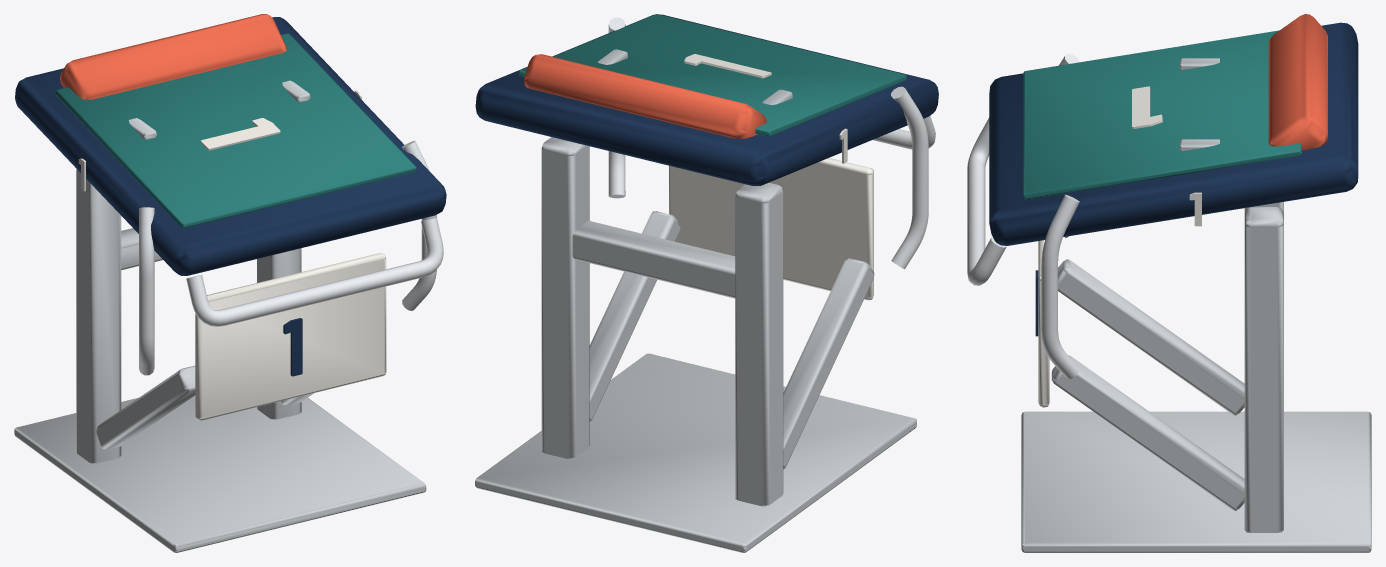
File: starting_block_1.glb
The picture shows the model from 3 angles, left to right: view 1: azimuth 30°, elevation 25°; view 2: azimuth 150°, elevation 25°; view 3: azimuth 270°, elevation 25°; orthographic projection. The views are drawn at different scales.
Visible parts, largest first — view 1: StartingBlock1Mesh; view 2: StartingBlock1Mesh; view 3: StartingBlock1Mesh.
Part boxes in pixels (bbox=[...]): StartingBlock1Mesh: bbox=[14, 14, 446, 552]; StartingBlock1Mesh: bbox=[475, 14, 938, 552]; StartingBlock1Mesh: bbox=[967, 14, 1371, 552].
Size of the model in its own units: 0.6562 by 0.8251 by 0.7158.
